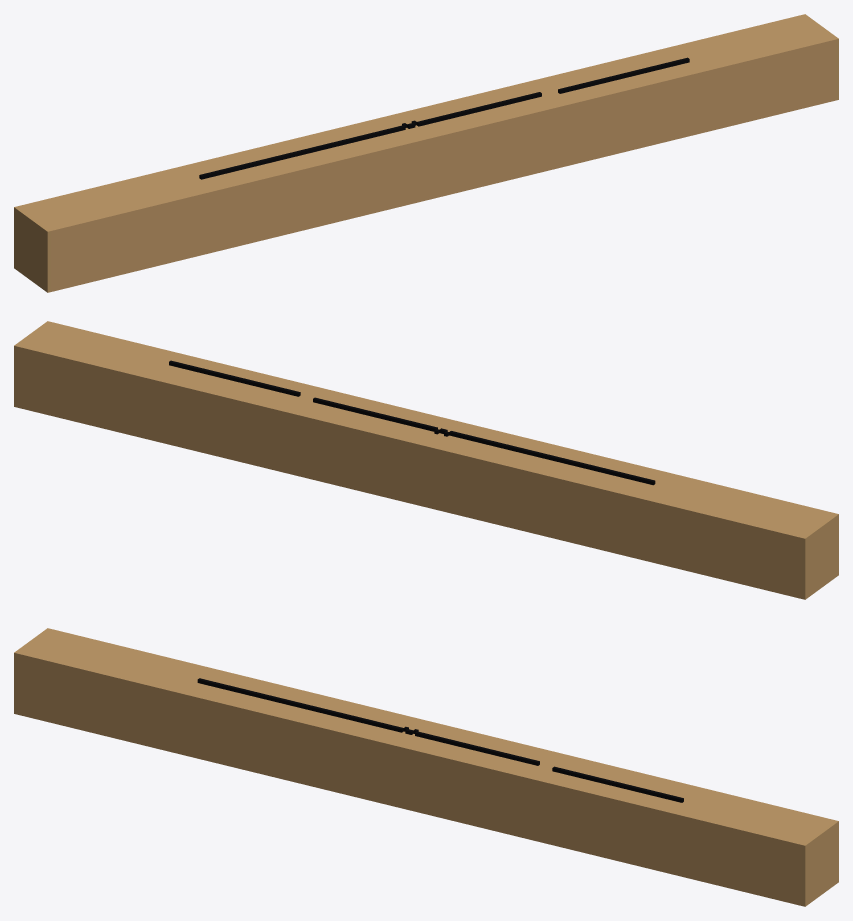
Rendered from wood_beam.glb.
3 renders of one model, top to bottom at view 1: azimuth 30°, elevation 25°; view 2: azimuth 150°, elevation 25°; view 3: azimuth 330°, elevation 25°, orthographic.
Visible parts, largest first — view 1: wood_beam:compound; view 2: wood_beam:compound; view 3: wood_beam:compound.
Boxes of the visible parts, box(x1,y1,x2,y2) form: wood_beam:compound: box(14, 14, 838, 292); wood_beam:compound: box(14, 321, 838, 599); wood_beam:compound: box(14, 628, 838, 906).
Bounding box in the file's own units: 2.44 × 0.19 × 0.18.
